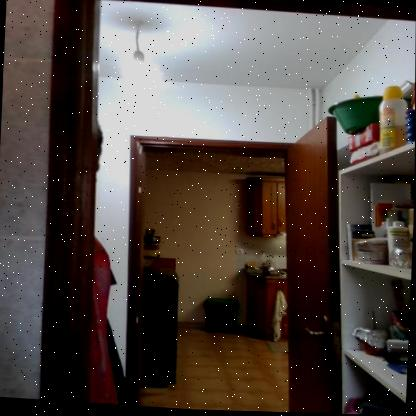door: (121, 114, 341, 416)
